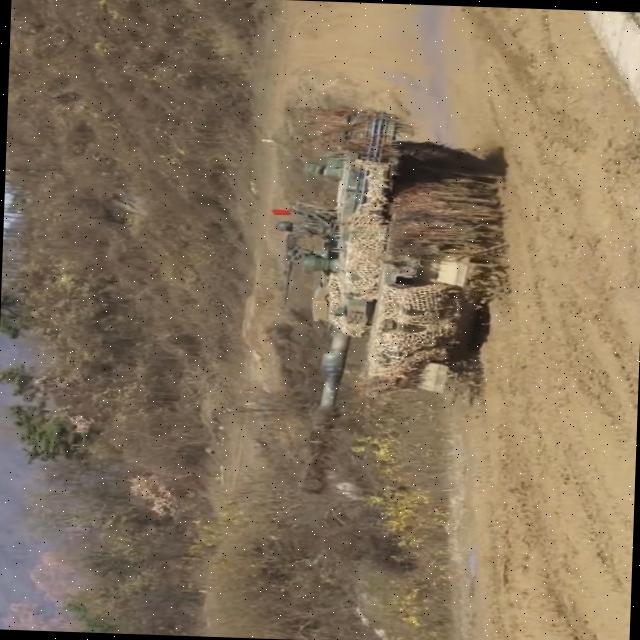korea tank: (260, 102, 516, 503)
